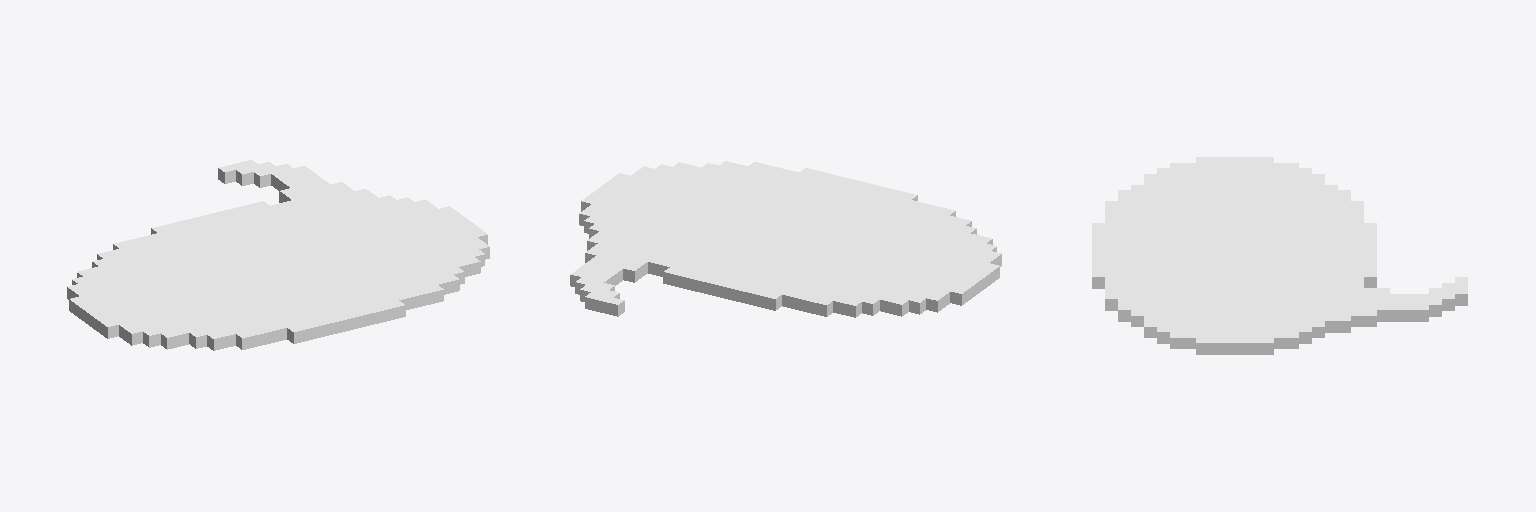
File: Robot_Alpha-2-11.obj
The picture shows the model from 3 angles: view 1: azimuth 30°, elevation 25°; view 2: azimuth 150°, elevation 25°; view 3: azimuth 270°, elevation 25°; orthographic projection.
Visible parts, largest first — view 1: object 1; view 2: object 1; view 3: object 1.
Part boxes in pixels (x1,y1,x2,y2): object 1: (67, 160, 489, 350); object 1: (570, 161, 1001, 317); object 1: (1092, 157, 1467, 354).
Size of the model in its own units: 3.4 by 0.1 by 2.9.